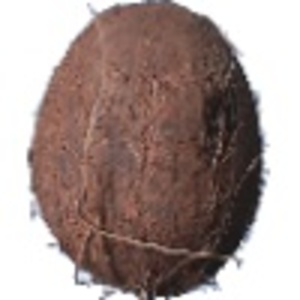coco: (29, 1, 268, 300)
